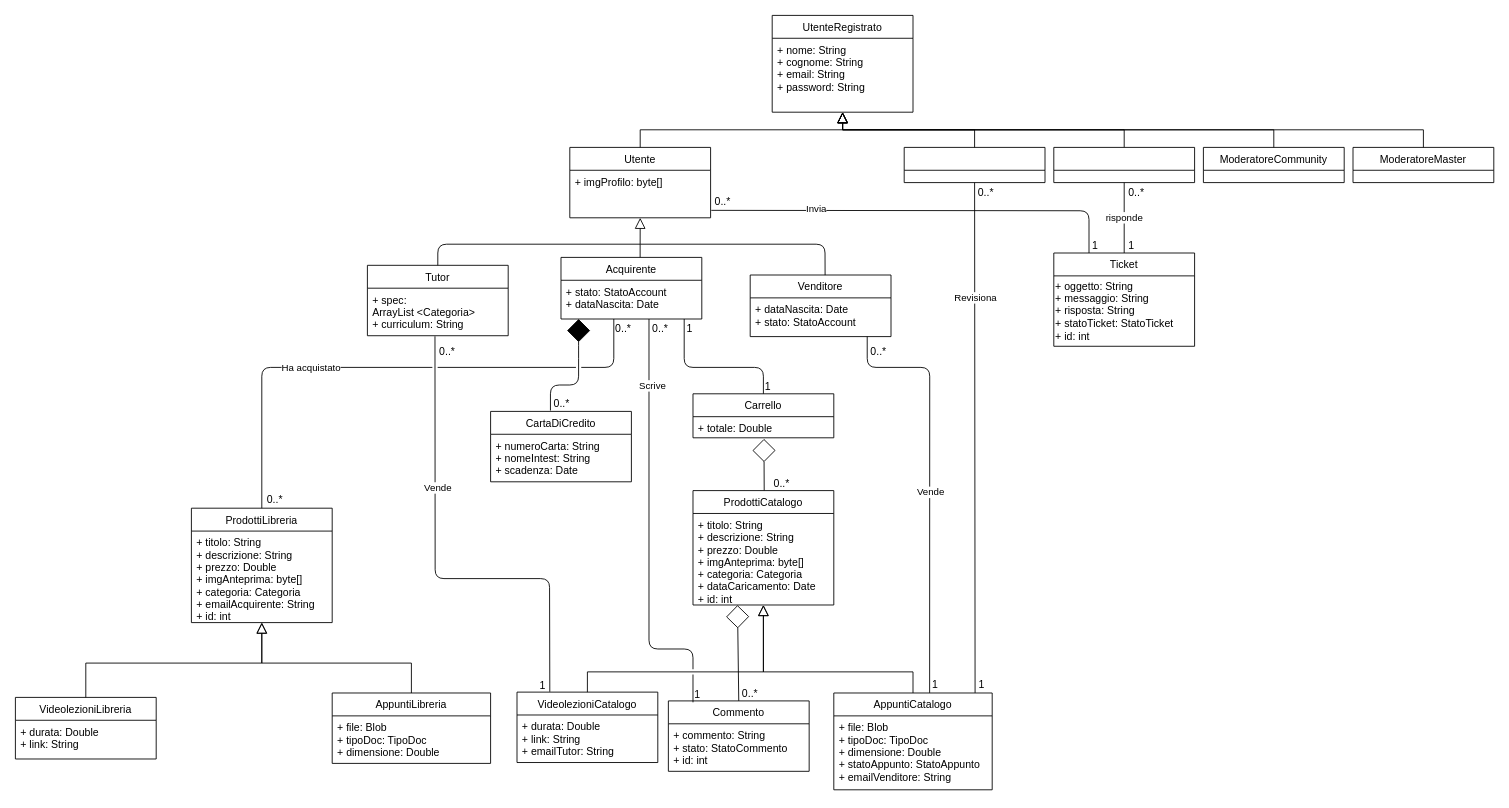
Some shapes in this 1509 by 808 pixel diagram are drawn without their labels. Each missing label, with the centre of its shape:
Helper: pixel 1124 165
ModeratoreCatalogo: pixel 974 165
